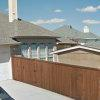Chimney: (5, 2, 22, 24)
